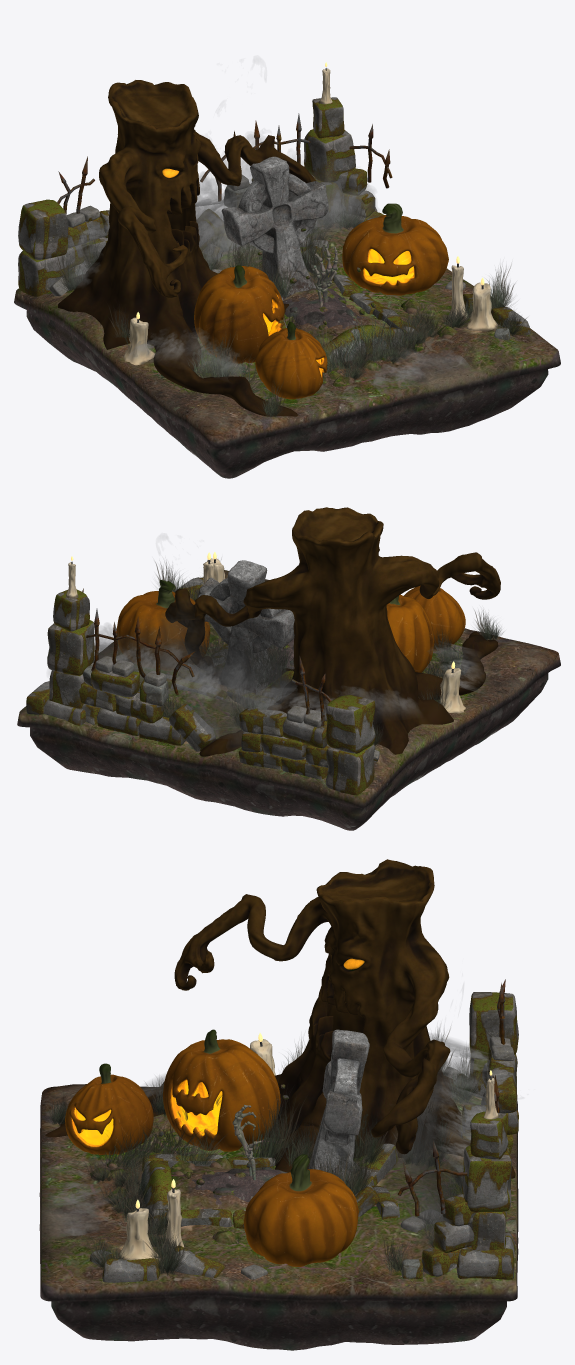
3 renders of one model, top to bottom at view 1: azimuth 30°, elevation 25°; view 2: azimuth 150°, elevation 25°; view 3: azimuth 270°, elevation 25°, orthographic. The views are drawn at different scales.
Parts seen in each view (by area): view 1: terrain_79, tree_LP_101, Plane.003_78, cross_low_59, pump1_LP_98, pump3_LP_99, Plane.002_85, pump2_LP_100, Plane_83, Plane.004_86, 1_brick.040_lp.004_36, Plane.001_84 (+17 smaller); view 2: tree_LP_101, terrain_79, Plane.002_85, cross_low_59, Plane.003_78, pump1_LP_98, Plane.006_88, 1_brick.040_lp.004_36, pump3_LP_99, Plane.009_91, 1_brick.040_lp.001_33, 1_brick.040_lp.003_35 (+26 smaller); view 3: terrain_79, tree_LP_101, Plane.003_78, pump3_LP_99, pump1_LP_98, pump2_LP_100, cross_low_59, Plane_83, Plane.002_85, 1_brick.040_lp.001_33, Plane.001_84, 1_brick.040_lp.004_36 (+22 smaller).
Part boxes in pixels (x1,y1,x2,y2): terrain_79: (14,223,560,478); tree_LP_101: (58,80,315,416); Plane.003_78: (55,194,526,417); cross_low_59: (221,156,328,299); pump1_LP_98: (342,203,448,295); pump3_LP_99: (194,265,284,363); Plane.002_85: (195,133,343,268); pump2_LP_100: (255,321,327,399); Plane_83: (196,176,376,269); Plane.004_86: (127,327,246,376); 1_brick.040_lp.004_36: (18,199,68,259); Plane.001_84: (368,348,470,393); tree_LP_101: (165,507,500,756); terrain_79: (17,570,560,830); Plane.002_85: (92,598,298,704); cross_low_59: (197,560,294,694); Plane.003_78: (138,559,503,749); pump1_LP_98: (116,580,210,670); Plane.006_88: (166,656,280,710); 1_brick.040_lp.004_36: (325,695,375,753); pump3_LP_99: (386,594,433,672); Plane.009_91: (116,638,219,690); 1_brick.040_lp.001_33: (47,620,94,675); 1_brick.040_lp.003_35: (326,744,374,795); terrain_79: (39,1084,518,1350); tree_LP_101: (45,859,515,1178); Plane.003_78: (44,1028,482,1275); pump3_LP_99: (163,1029,280,1151); pump1_LP_98: (243,1154,358,1266); pump2_LP_100: (65,1063,153,1154); cross_low_59: (308,1029,369,1182); Plane_83: (384,1102,453,1244); Plane.002_85: (410,1029,475,1250); 1_brick.040_lp.001_33: (462,1145,511,1212); Plane.001_84: (48,1181,116,1236); 1_brick.040_lp.004_36: (469,992,518,1059).
Size of what is drawn, in the model's own units: 7.37 by 5.37 by 7.74.
Materials: 7 (7 with a texture image).
